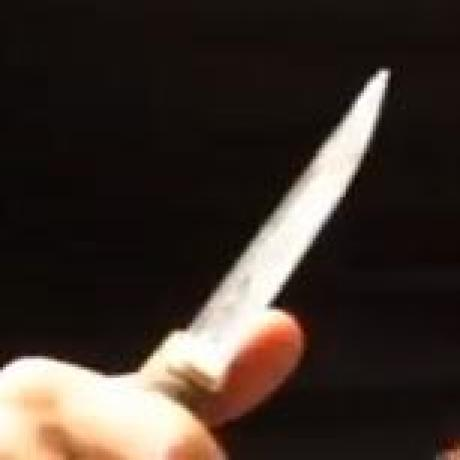weapon: (155, 72, 390, 397)
